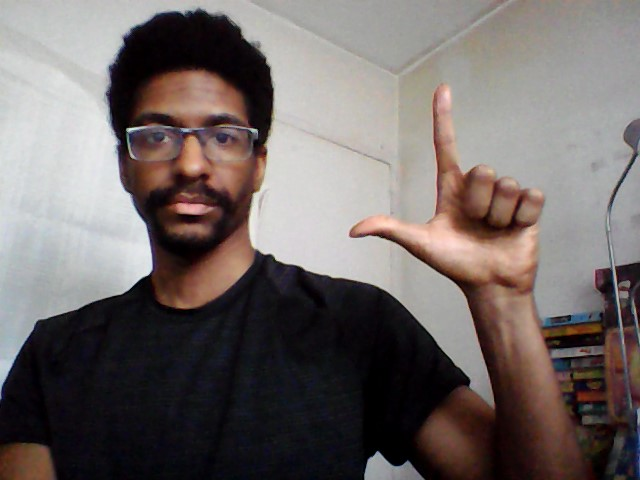l: (343, 78, 549, 295)
